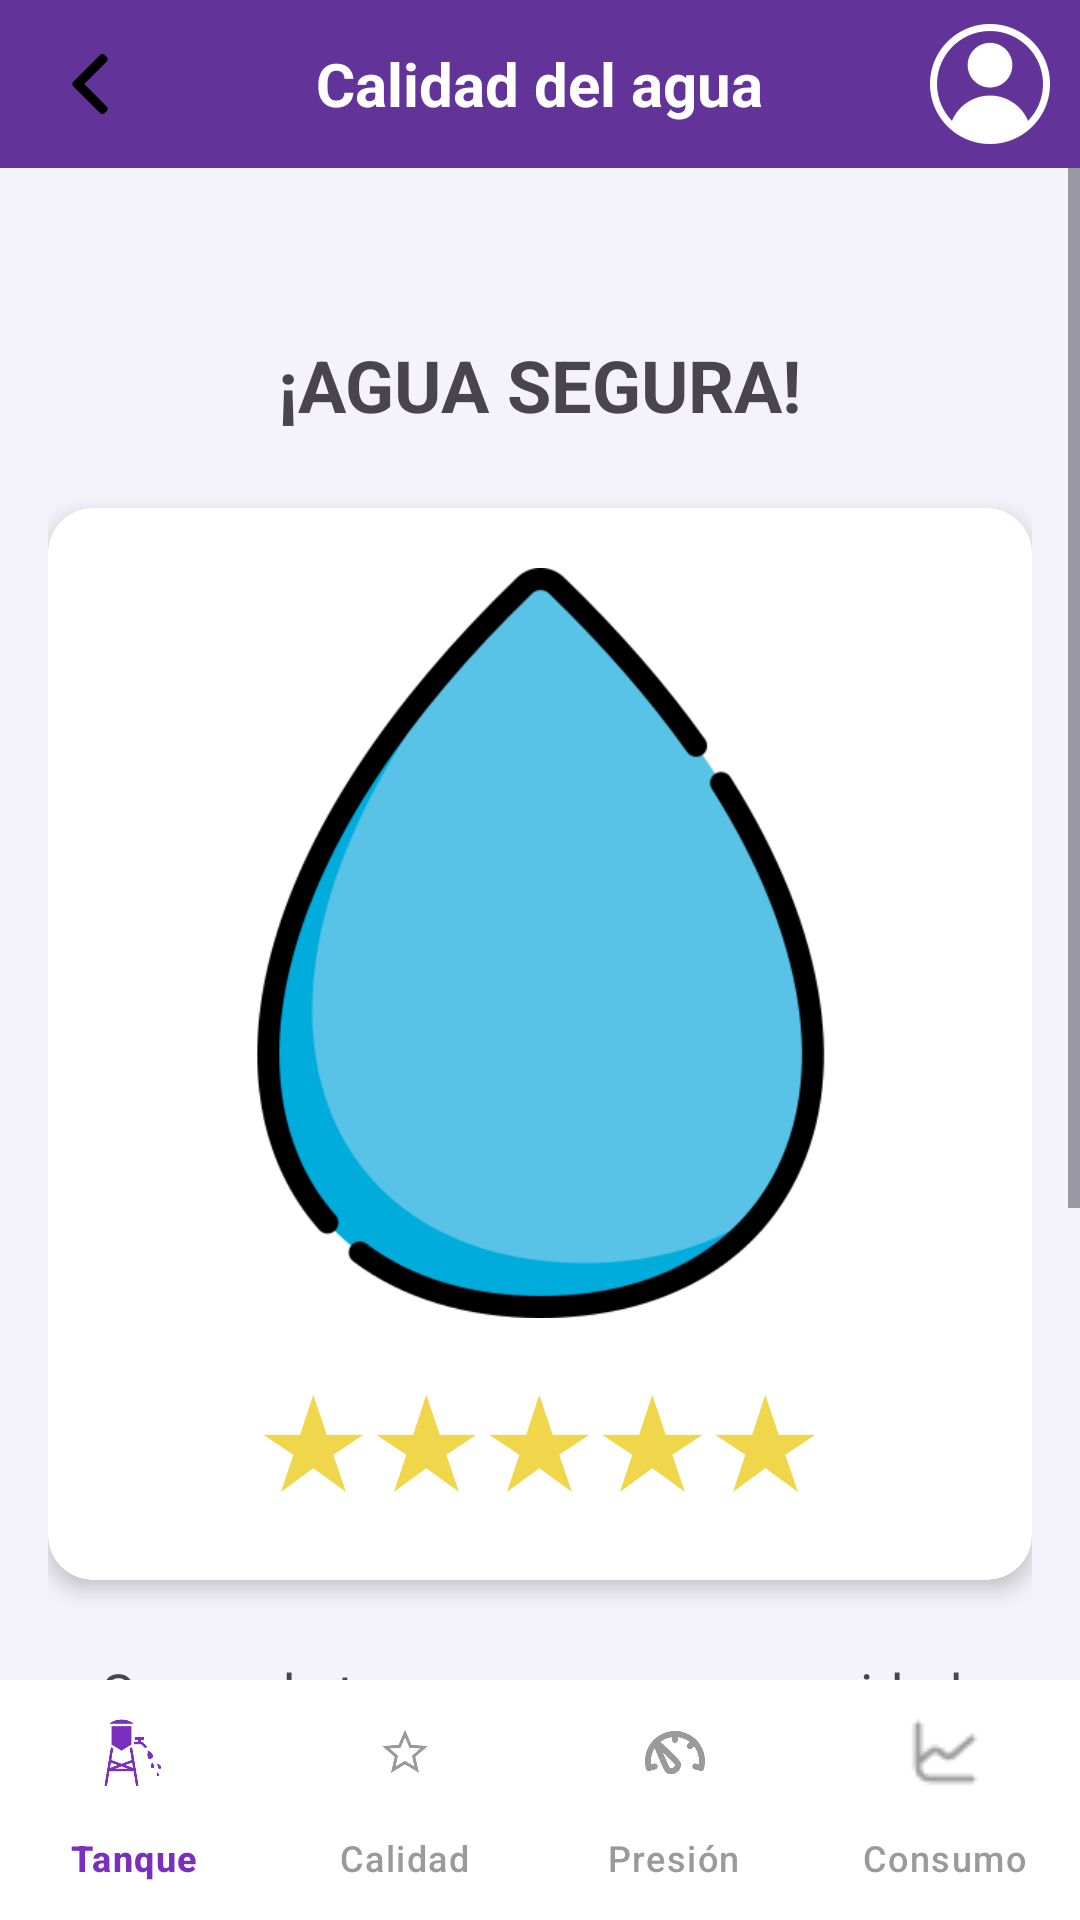

Icon click points for this 1080px×1920px phone screenshot, format (x,y):
back: (90,84)
perfil: (990,84)
